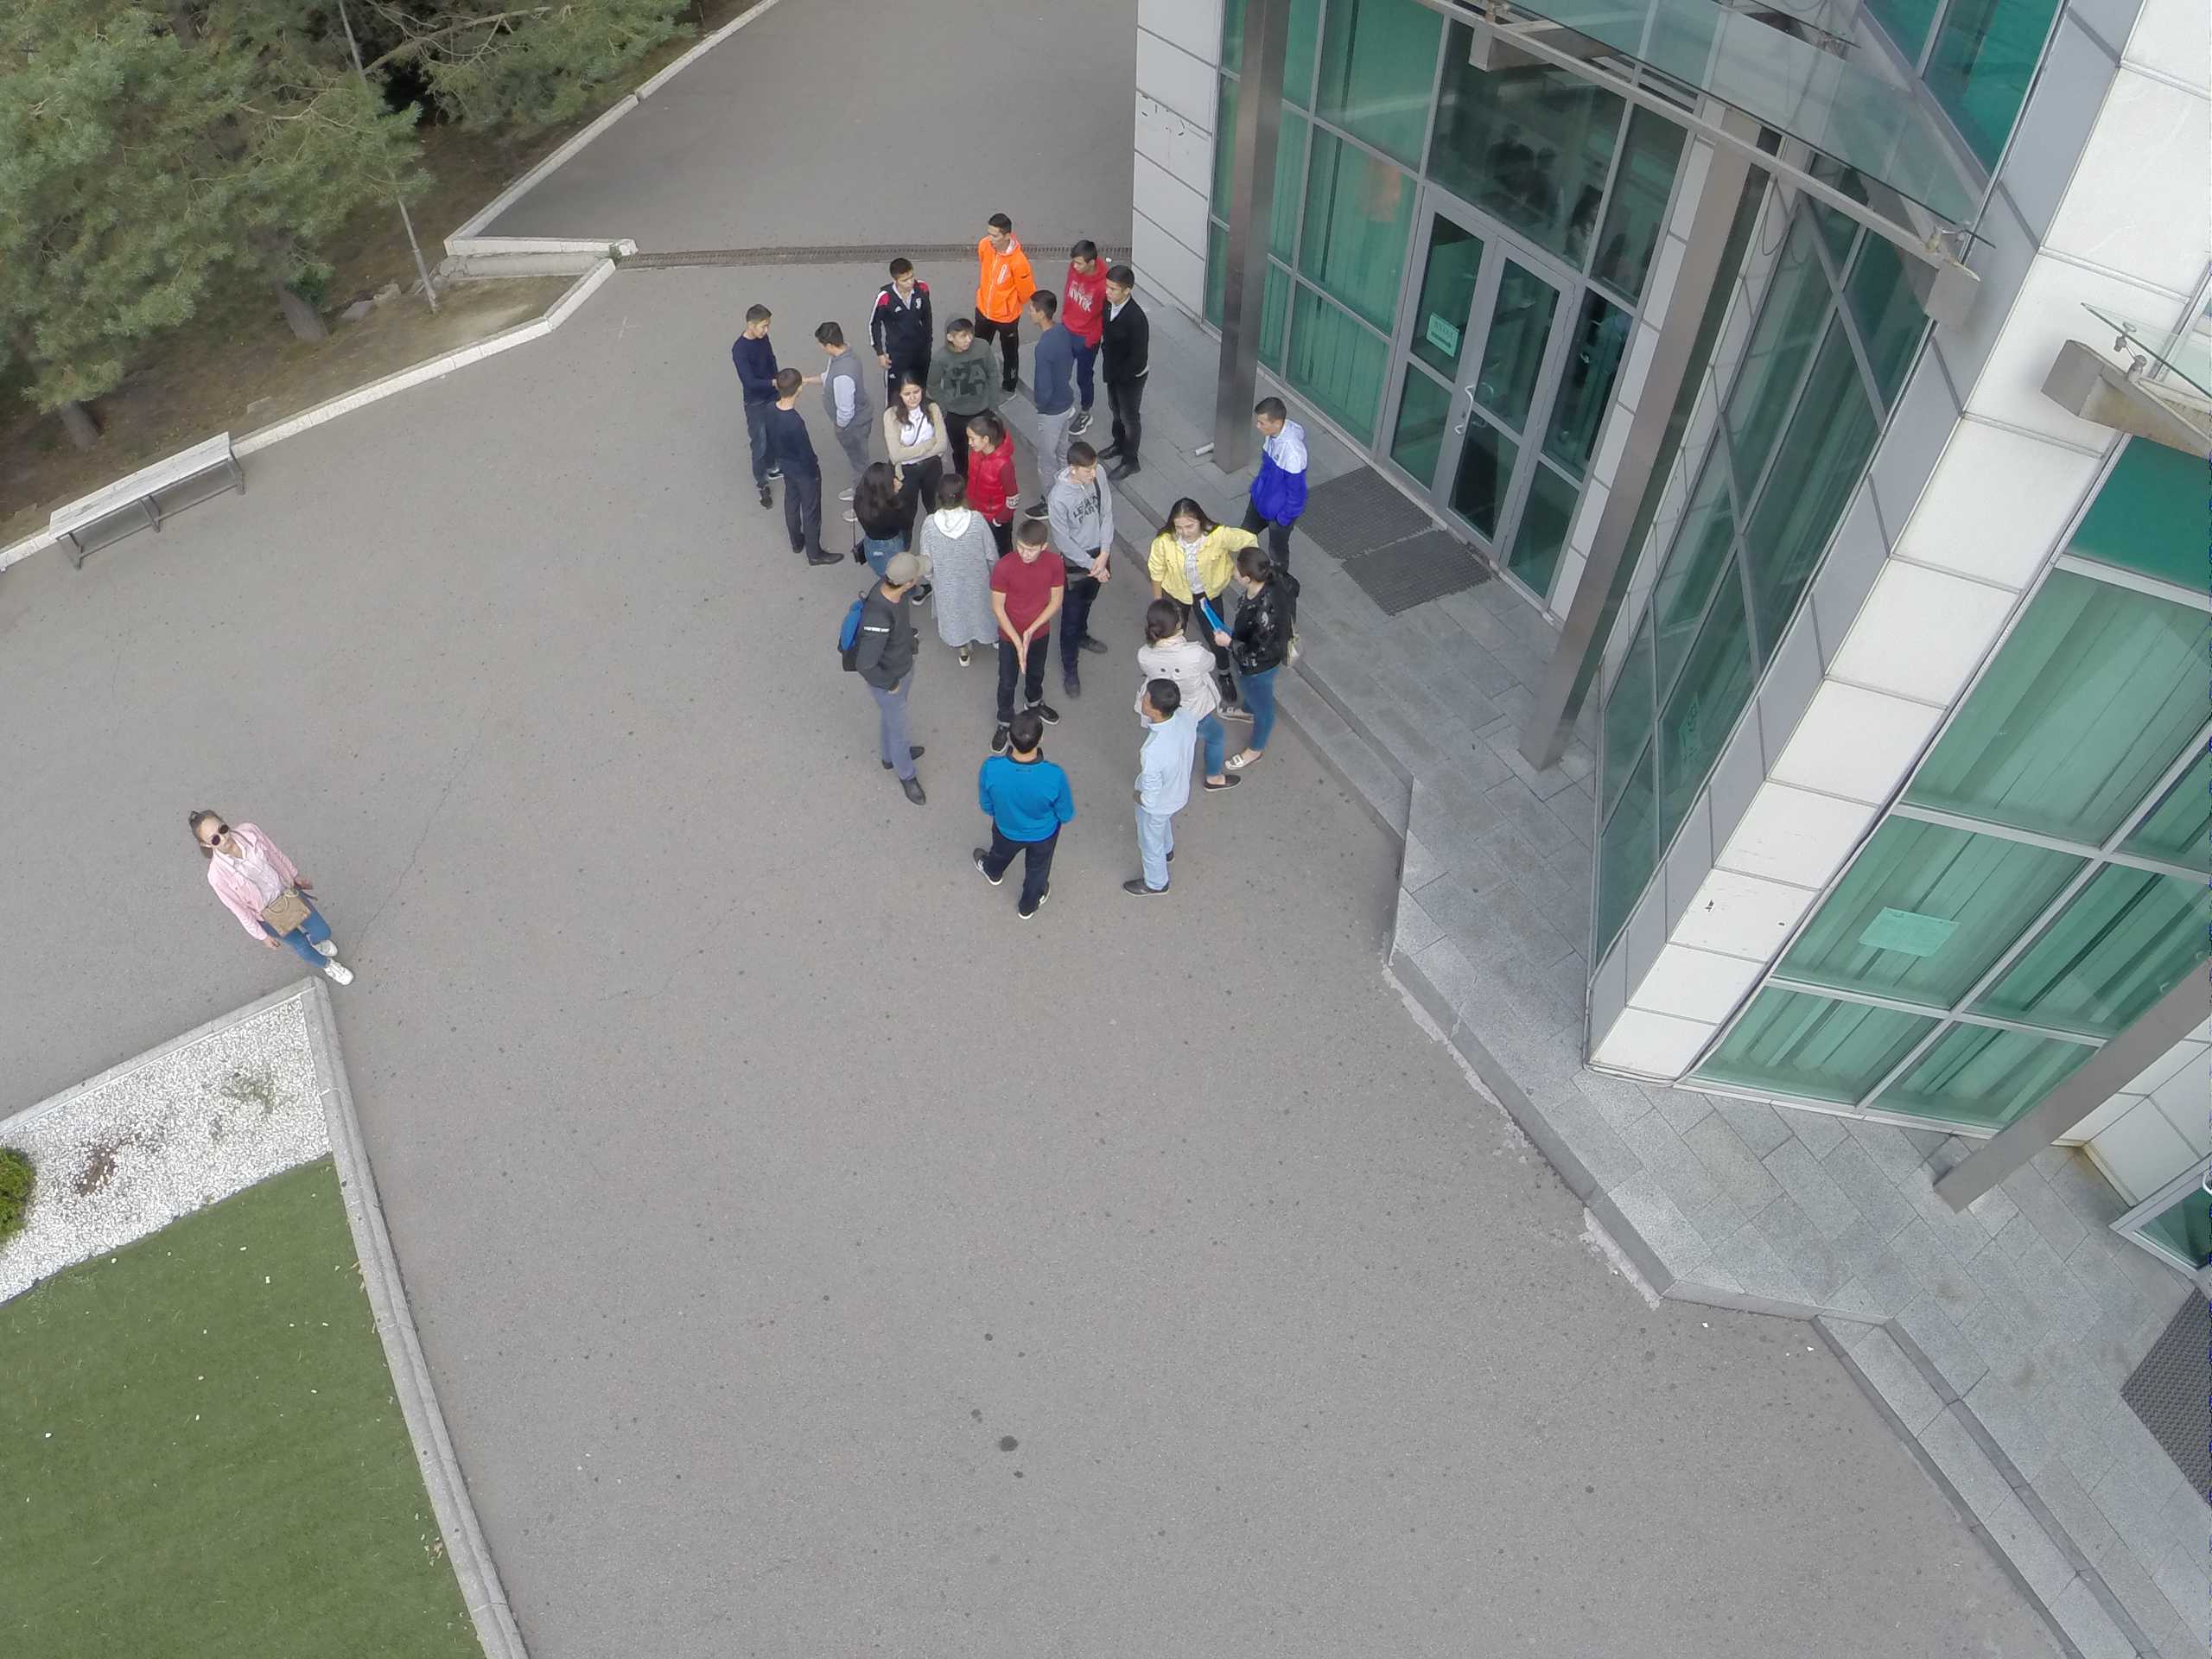person: (181, 801, 357, 989), (853, 561, 934, 810), (1208, 540, 1293, 773), (977, 713, 1065, 931), (1107, 690, 1191, 903), (990, 521, 1067, 728), (922, 476, 1003, 664), (763, 375, 842, 570), (721, 296, 795, 503), (1095, 258, 1160, 489), (1154, 607, 1236, 790), (1059, 439, 1110, 696), (960, 202, 1040, 348), (1236, 390, 1313, 531), (1056, 241, 1106, 436), (806, 313, 870, 455), (1152, 497, 1234, 599), (938, 313, 1013, 422), (872, 260, 936, 377), (851, 454, 922, 550), (1024, 290, 1075, 422), (875, 380, 950, 467), (965, 414, 1016, 503)
